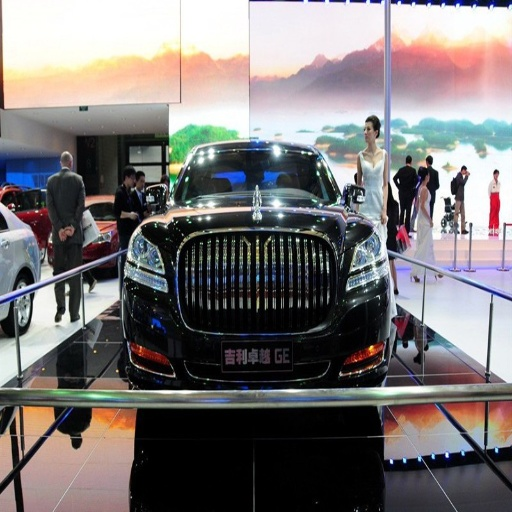front_bumper: (123, 233, 394, 404)
front_right_light: (125, 226, 166, 277)
hood: (153, 195, 353, 246)
